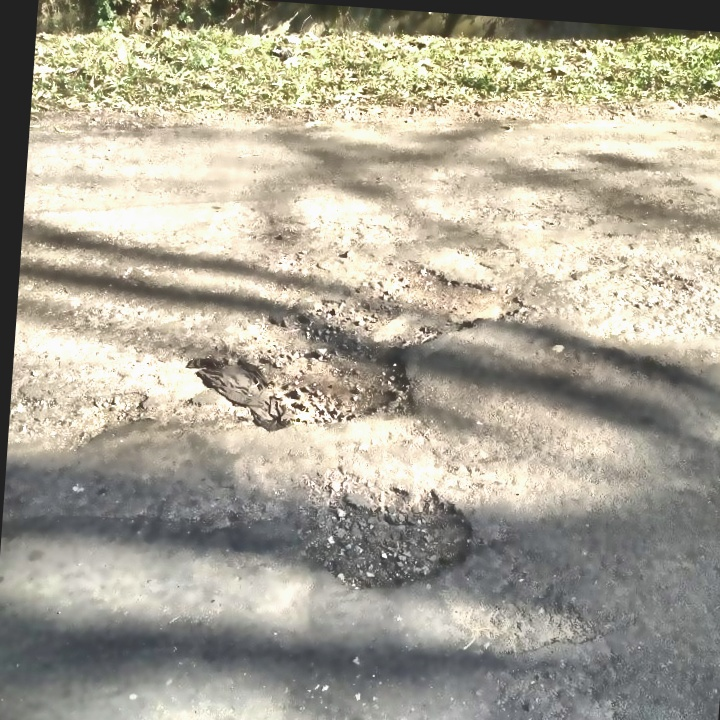pothole: (211, 241, 530, 441), (297, 473, 483, 599)
